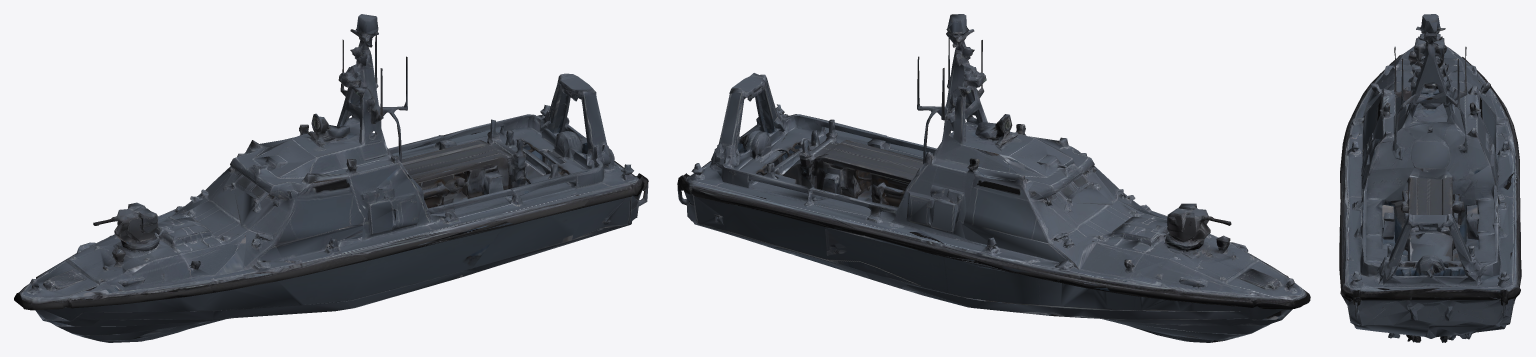
Rendered from mcm-usv-meshy6-web-battle-lod-v1.glb.
The picture shows the model from 3 angles, left to right: view 1: azimuth 30°, elevation 25°; view 2: azimuth 150°, elevation 25°; view 3: azimuth 270°, elevation 25°; orthographic projection. The views are drawn at different scales.
Size of the model in its own units: 1.89 by 0.8282 by 0.5544.
1 material, 1 textured.
